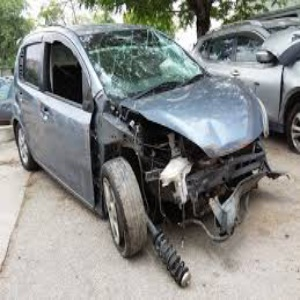bonnet: (181, 103, 241, 157)
